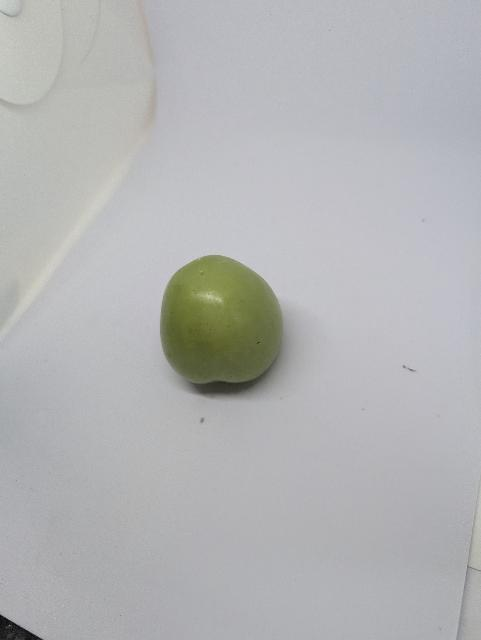green: (154, 242, 313, 398)
